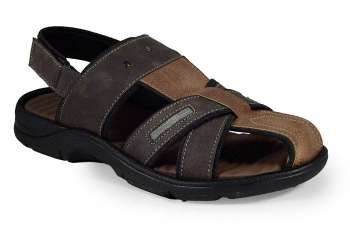Footwear: (13, 25, 332, 203)
